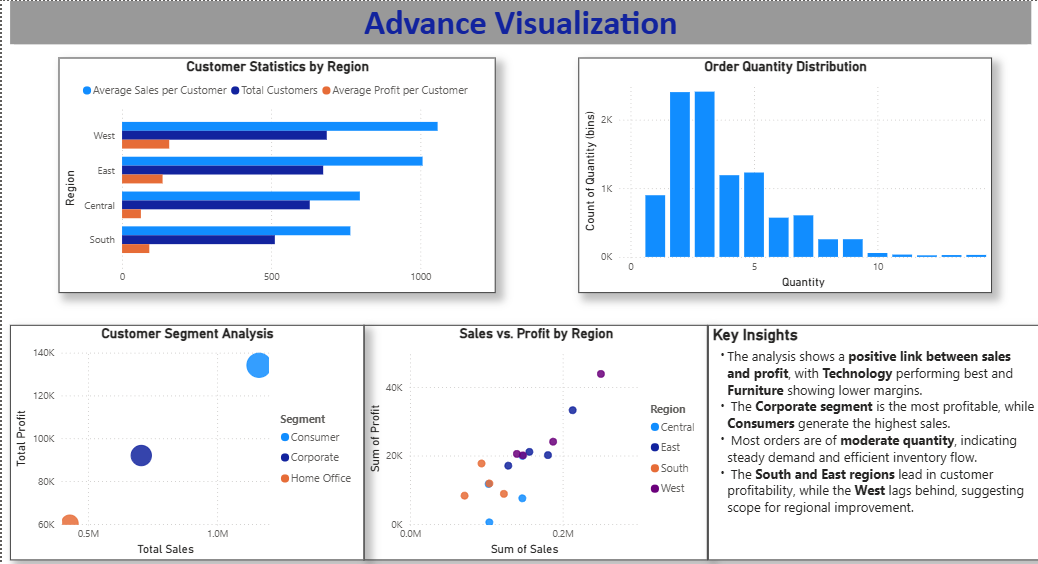

The dashboard page shown, as its layout file describes it:
{"tool":"powerbi","page":{"name":"Advance visualization","canvas":[1280,720],"ordinal":1},"visuals":[{"type":"scatterChart","title":"Sales vs. Profit by Region","fields":{"X":["Sum(Orders.Sales)"],"Y":["Sum(Orders.Profit)"],"Category":["Orders.Order Date.Variation.Date Hierarchy.Year"],"Series":["Orders.Region"]},"box":[446.2,400.3,424.8,290.3],"z":0},{"type":"scatterChart","title":"Customer Segment Analysis","fields":{"X":["Sum(Orders.Sales)"],"Y":["Orders.Total Profit"],"Series":["Orders.Segment"],"Size":["Sum(Orders.Profit)"]},"box":[9.4,400.8,436.7,290.1],"z":1},{"type":"clusteredBarChart","title":"Customer Statistics by Region","fields":{"Category":["Orders.Region"],"Y":["Orders.Average Sales per Customer","Orders.Total Customers","Orders.Average Profit per Customer"]},"box":[70.3,70.3,539.4,290.3],"z":2},{"type":"textbox","title":"Key Insights","box":[870.9,400.3,409.5,290.3],"z":3},{"type":"clusteredColumnChart","title":"Order Quantity Distribution","fields":{"Y":["CountNonNull(Orders.Quantity (bins))"],"Category":["Orders.Quantity"]},"box":[712,70.3,510.3,290.3],"z":4},{"type":"textbox","title":"Advance Visualization","box":[9.2,0,1260.5,53.5],"z":5}]}

Visuals, with their boxes in screenshot pixels (x1, y1, x2, y2):
"Sales vs. Profit by Region" scatterChart: <region>363, 321, 704, 554</region>
"Customer Segment Analysis" scatterChart: <region>13, 322, 363, 554</region>
"Customer Statistics by Region" clusteredBarChart: <region>62, 56, 495, 289</region>
"Key Insights" textbox: <region>704, 321, 1033, 554</region>
"Order Quantity Distribution" clusteredColumnChart: <region>577, 56, 986, 289</region>
"Advance Visualization" textbox: <region>13, 0, 1024, 43</region>
